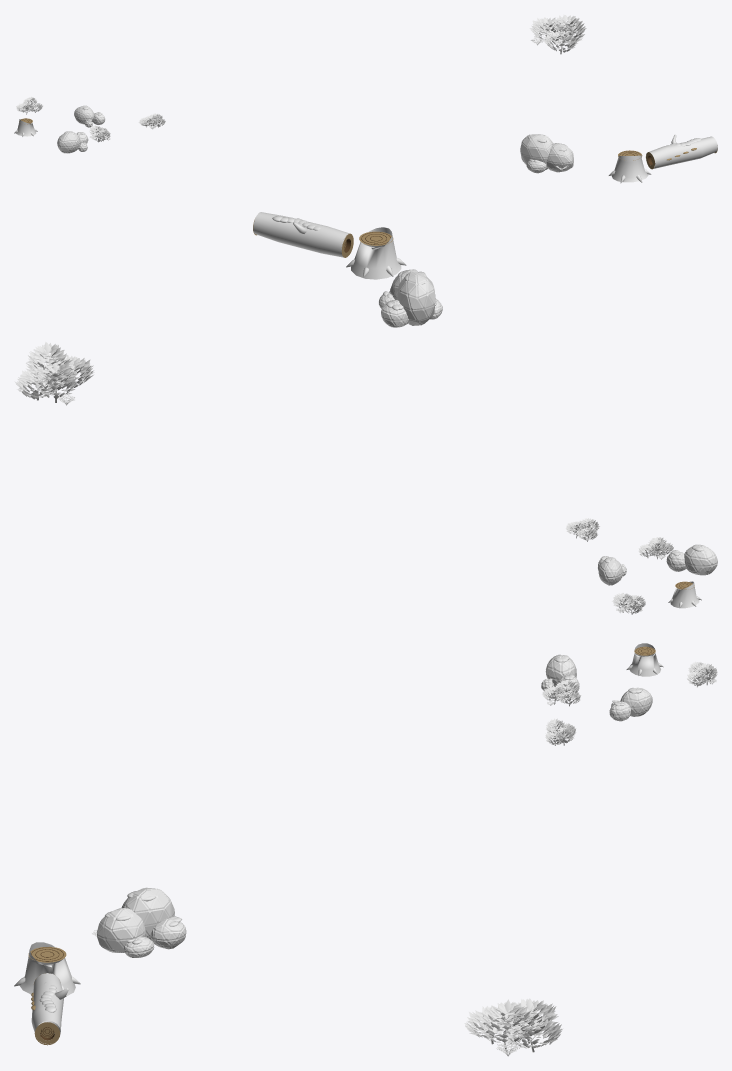
The model's file is SM_NW_Nature_2_2_Macro.fbx.
3 views of the same model, one above another, from view 1: azimuth 30°, elevation 25°; view 2: azimuth 150°, elevation 25°; view 3: azimuth 270°, elevation 25° (orthographic). The views are drawn at different scales.
Parts seen in each view (by area): view 1: SM_NW_Nature_2_2_Macro; view 2: SM_NW_Nature_2_2_Macro; view 3: SM_NW_Nature_2_2_Macro.
Boxes of the visible parts, x1,y1,x2,y2 form: SM_NW_Nature_2_2_Macro: [14, 14, 717, 183]; SM_NW_Nature_2_2_Macro: [14, 212, 717, 614]; SM_NW_Nature_2_2_Macro: [14, 643, 717, 1056].
Size of the model in its own units: 2815 by 2109 by 178.
